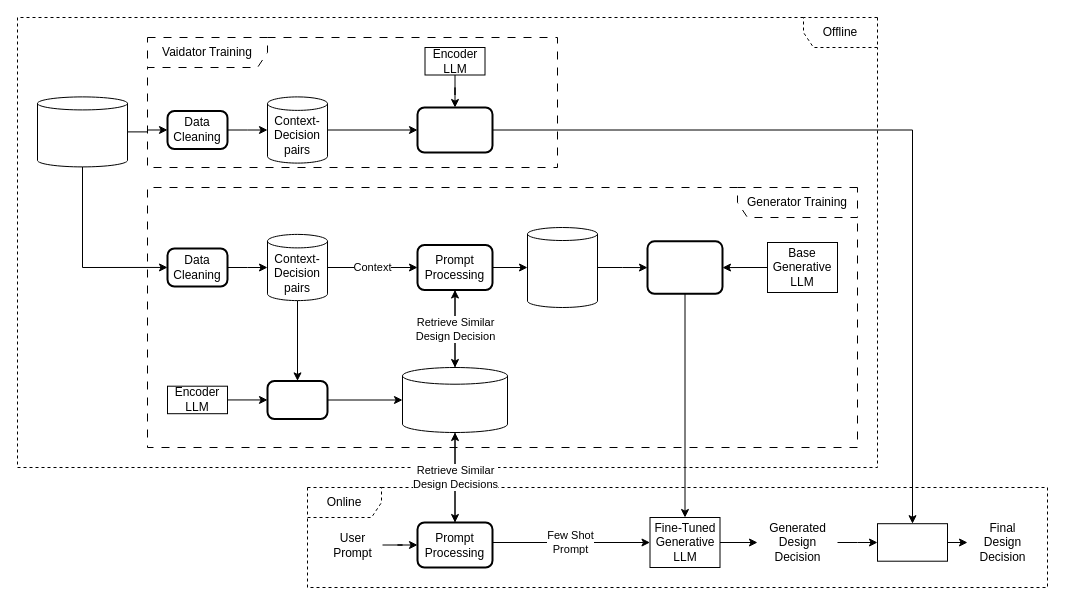
The diagram is 1065 pixels wide and 605 high, and some of its shapes have lost their labels. The shapes that lost their labels are listed below. From the top down, each one's centre as x and y in pixels, then its label:
point (82, 131): Dataset of Architecture Decision Records
point (454, 129): Model Training
point (562, 267): Training Data with Few shot prompt
point (684, 267): Genarative LLM Fine Tuning
point (297, 399): Indexing
point (455, 399): Vector DB of Previous Design Decision
point (912, 542): LLM based Validator
